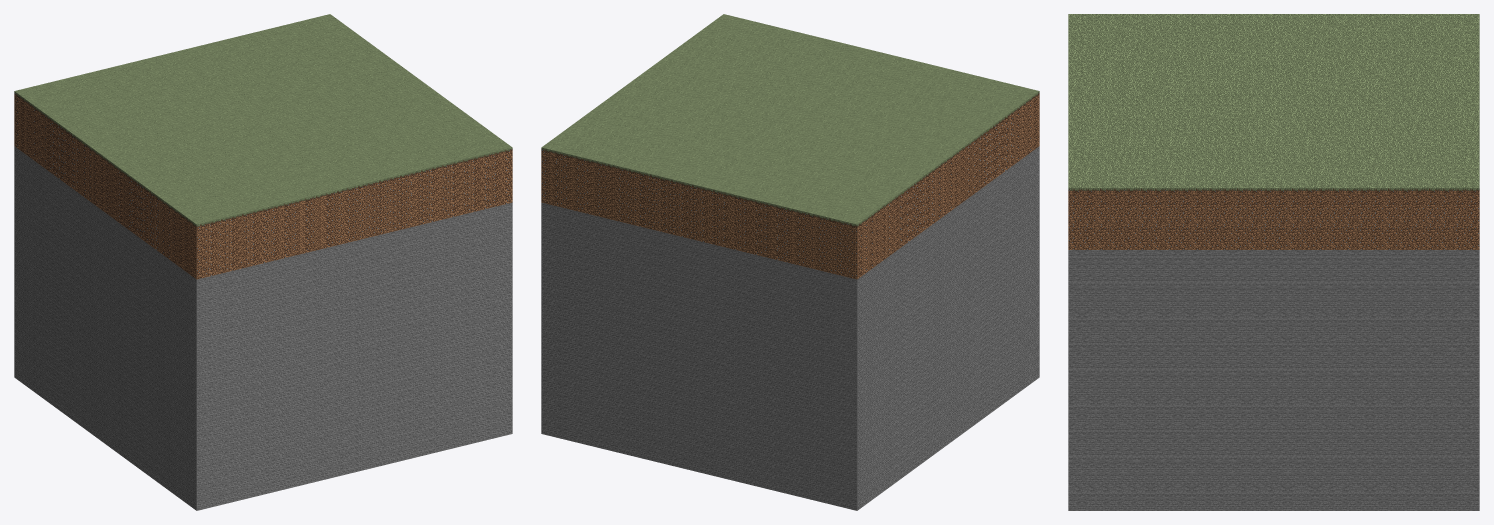
3 views of the same model, side by side, from view 1: azimuth 30°, elevation 25°; view 2: azimuth 150°, elevation 25°; view 3: azimuth 270°, elevation 25° (orthographic). The views are drawn at different scales.
Parts seen in each view (by area): view 1: base, grass; view 2: base, grass; view 3: base, grass.
Part boxes in pixels (bbox=[...]): base: bbox=[14, 102, 512, 510]; grass: bbox=[14, 14, 512, 235]; base: bbox=[541, 102, 1039, 510]; grass: bbox=[541, 14, 1039, 235]; base: bbox=[1068, 200, 1479, 510]; grass: bbox=[1068, 14, 1479, 200].
Size of the model in its own units: 30 by 26 by 30.
Materials: 6 (6 with a texture image).
